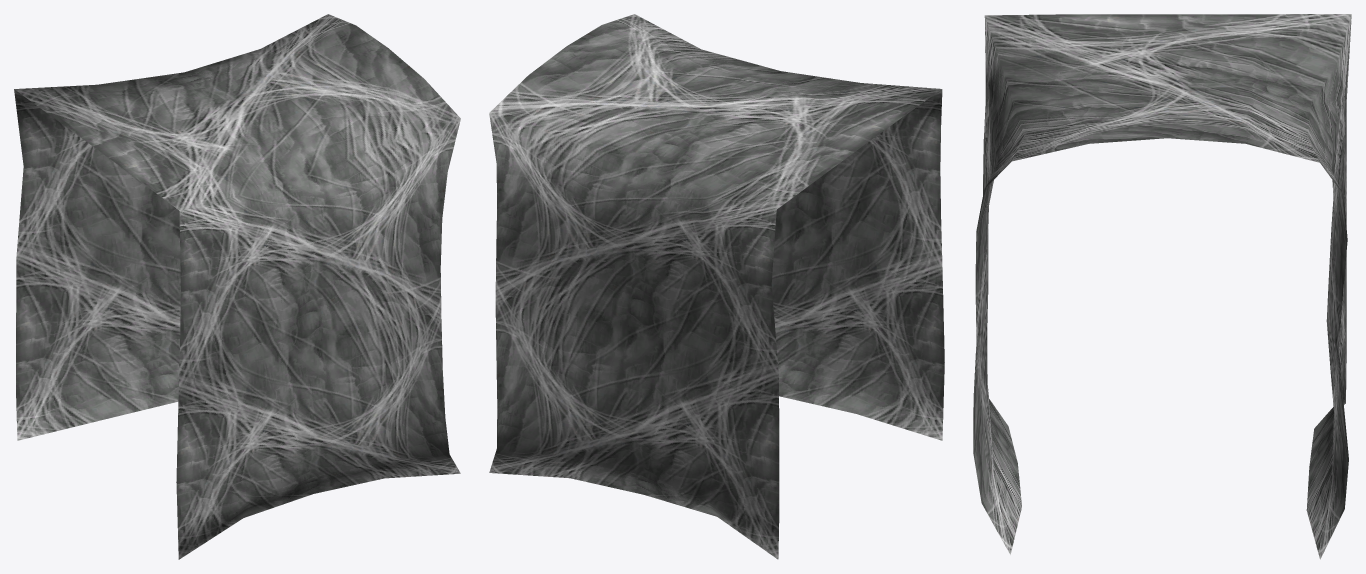
Rendered from SWORDLIGHT20_PS-AREA01_13.fbx.
The picture shows the model from 3 angles, left to right: view 1: azimuth 30°, elevation 25°; view 2: azimuth 150°, elevation 25°; view 3: azimuth 270°, elevation 25°; orthographic projection. The views are drawn at different scales.
Visible parts, largest first — view 1: SWORDLIGHT20_PS-AREA01_13; view 2: SWORDLIGHT20_PS-AREA01_13; view 3: SWORDLIGHT20_PS-AREA01_13.
Part boxes in pixels (left/top/right/bottom): SWORDLIGHT20_PS-AREA01_13: left=14, top=14, right=460, bottom=559; SWORDLIGHT20_PS-AREA01_13: left=489, top=14, right=944, bottom=559; SWORDLIGHT20_PS-AREA01_13: left=973, top=14, right=1351, bottom=559.
Bounding box in the file's own units: 74285 × 89437 × 72516.
Materials: 1 (1 with a texture image).
